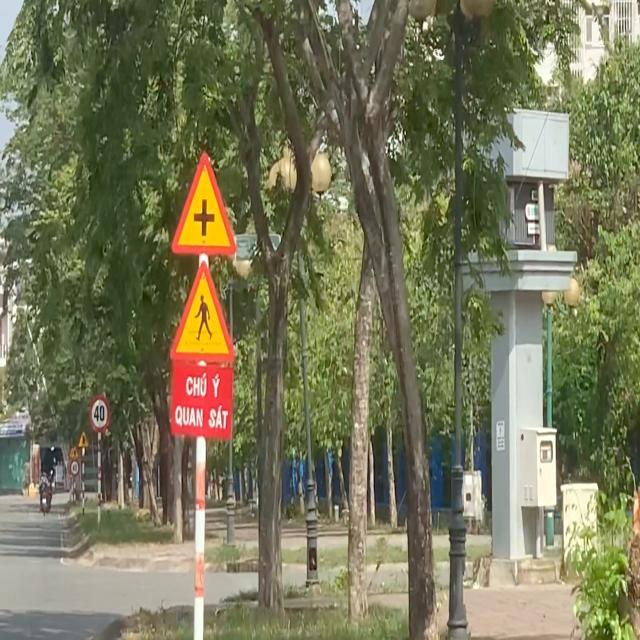Duong giao nhau: (165, 145, 240, 261)
Giao voi duong khong uu tien: (77, 430, 90, 450)
Nguoi di bo cat ngang: (164, 257, 237, 365)
Toc do toi da: (88, 395, 111, 433)
